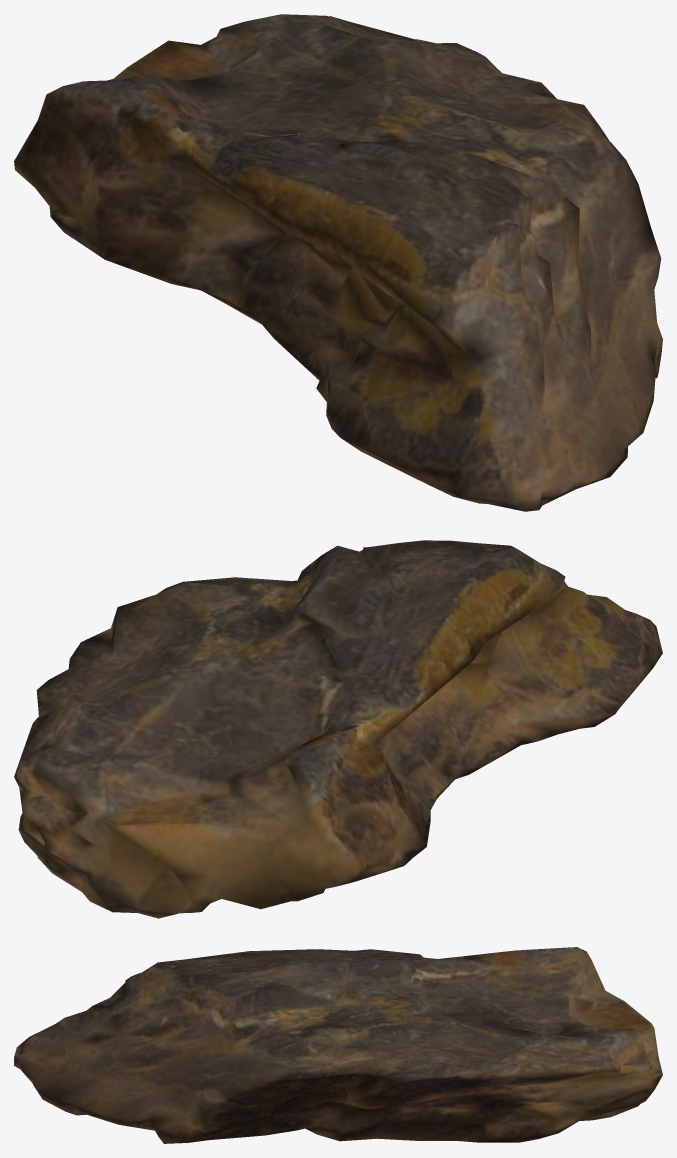
The model's file is boulder.glb.
3 views of the same model, one above another, from view 1: azimuth 30°, elevation 25°; view 2: azimuth 150°, elevation 25°; view 3: azimuth 270°, elevation 25° (orthographic). The views are drawn at different scales.
Visible parts, largest first — view 1: rock_09_LOD0; view 2: rock_09_LOD0; view 3: rock_09_LOD0.
Boxes of the visible parts, x1,y1,x2,y2 form: rock_09_LOD0: (14, 14, 662, 511); rock_09_LOD0: (14, 540, 662, 918); rock_09_LOD0: (14, 947, 662, 1143).
Size of the model in its own units: 0.0738 by 0.0326 by 0.1446.
Materials: 1 (1 with a texture image).
